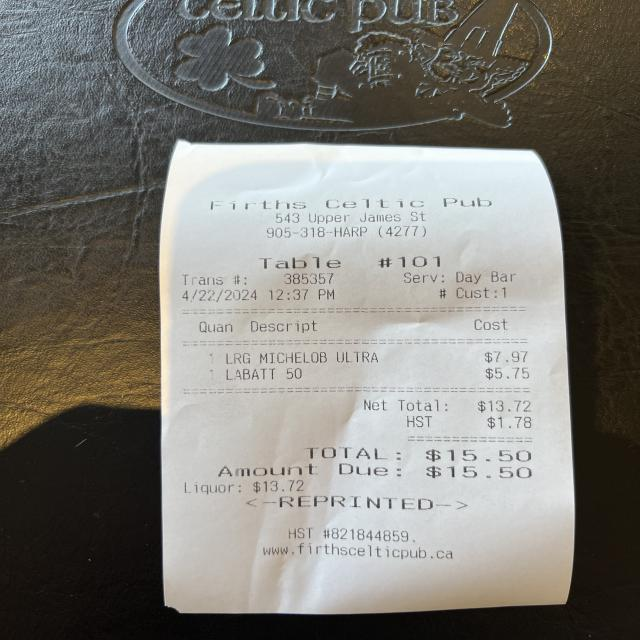item: (218, 344, 532, 366), (219, 365, 533, 386)
store_name: (205, 194, 497, 213)
total_amount: (297, 442, 536, 465)
transaction_date: (179, 286, 262, 305)
